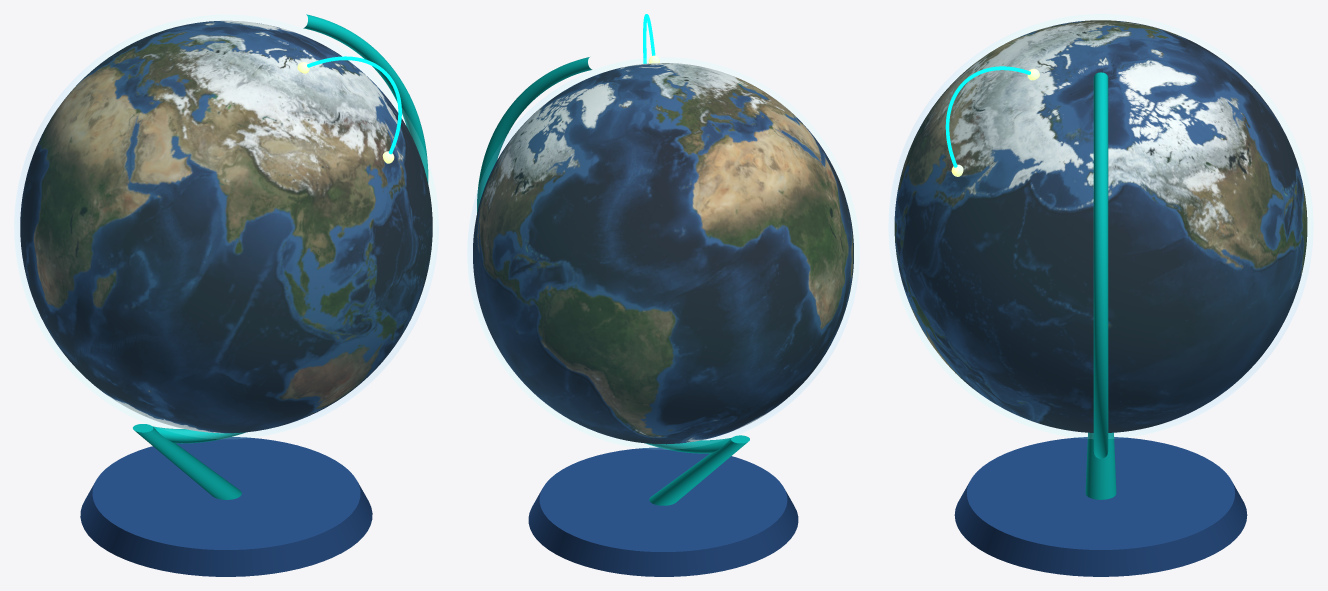
The model's file is deskglobe.glb.
3 views of the same model, side by side, from view 1: azimuth 30°, elevation 25°; view 2: azimuth 150°, elevation 25°; view 3: azimuth 270°, elevation 25° (orthographic). The views are drawn at different scales.
Parts seen in each view (by area): view 1: Atmosphere, Earth, Base, Meridian, Stem, Arc; view 2: Atmosphere, Earth, Base, Meridian, Stem; view 3: Atmosphere, Earth, Base, Meridian, Stem, Arc.
Part boxes in pixels (x1,y1,x2,y2): Atmosphere: (14,15,438,438); Earth: (20,20,432,433); Base: (80,437,372,576); Meridian: (153,14,428,443); Stem: (133,424,241,499); Arc: (307,56,401,154); Atmosphere: (468,58,858,449); Earth: (473,63,853,444); Base: (528,447,798,576); Meridian: (477,57,730,453); Stem: (649,435,749,505); Atmosphere: (889,14,1312,438); Earth: (894,20,1307,432); Base: (954,437,1247,576); Meridian: (1093,72,1108,458); Stem: (1085,432,1116,499); Arc: (945,66,1030,167).
Size of the model in its own units: 0.2586 by 0.3092 by 0.2472.
Materials: 6 (1 with a texture image).
